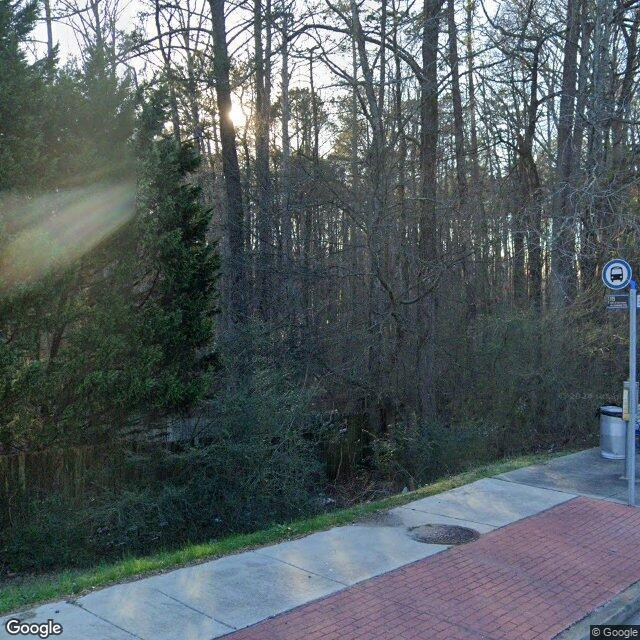trash_can: (598, 405, 630, 460)
